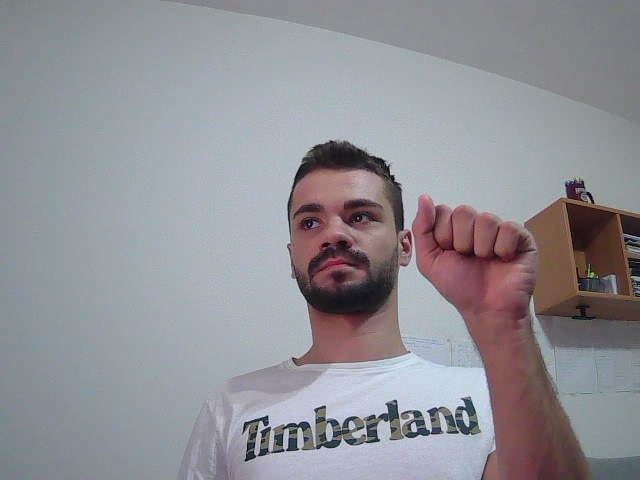a: (394, 188, 592, 468)
